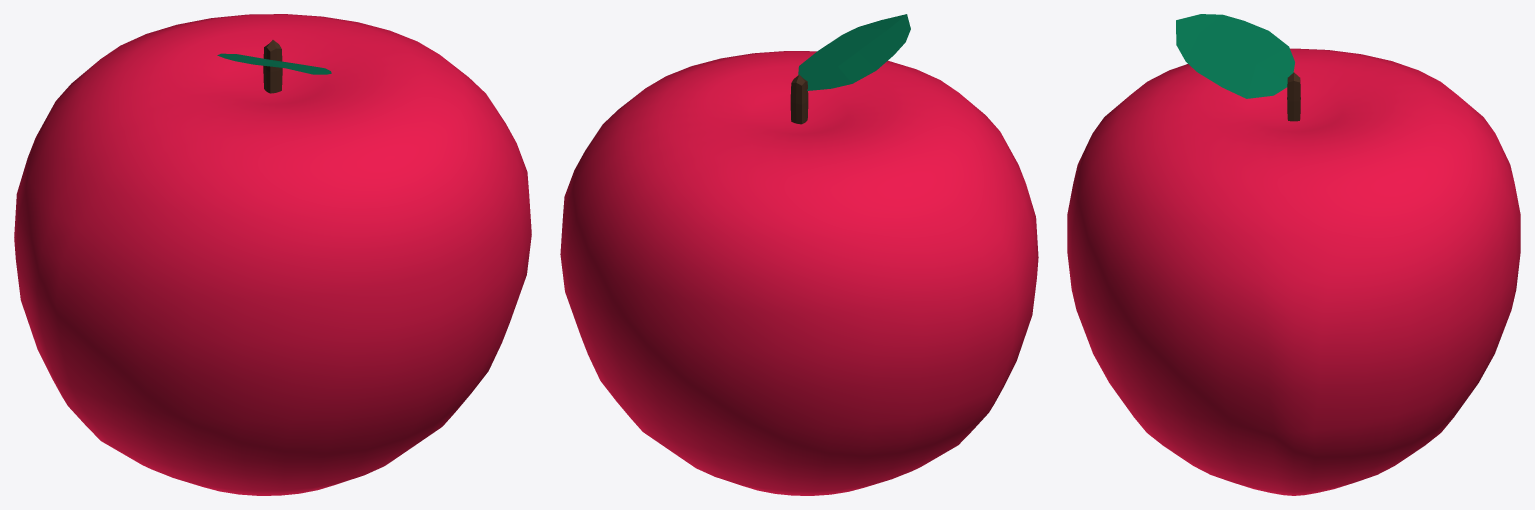
The model's file is apple_r.fbx.
The picture shows the model from 3 angles, left to right: view 1: azimuth 30°, elevation 25°; view 2: azimuth 150°, elevation 25°; view 3: azimuth 270°, elevation 25°; orthographic projection. The views are drawn at different scales.
Parts seen in each view (by area): view 1: Sphere; view 2: Sphere; view 3: Sphere.
Part boxes in pixels (box(x1,y1,x2,y2)): Sphere: box(14, 14, 531, 495); Sphere: box(560, 14, 1038, 495); Sphere: box(1067, 14, 1520, 495).
Size of the model in its own units: 200 by 182 by 182.
